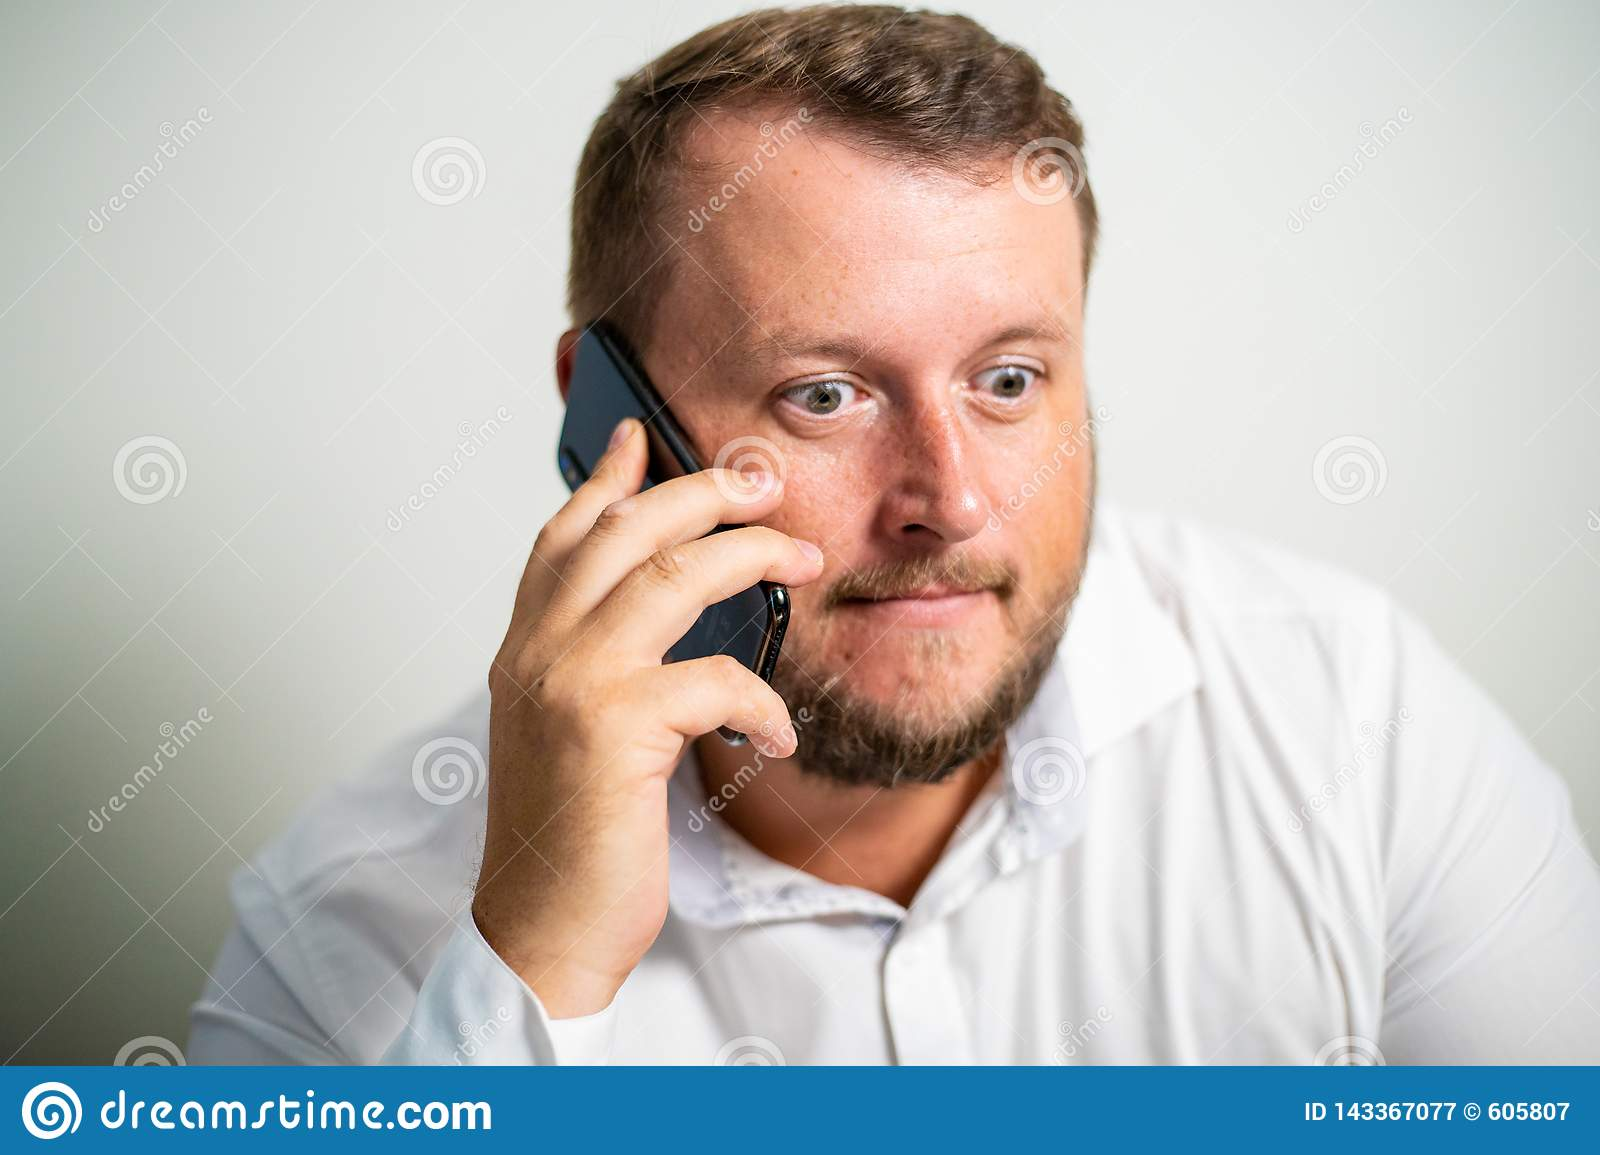phone: (547, 319, 786, 741)
talk: (471, 276, 1082, 970)
